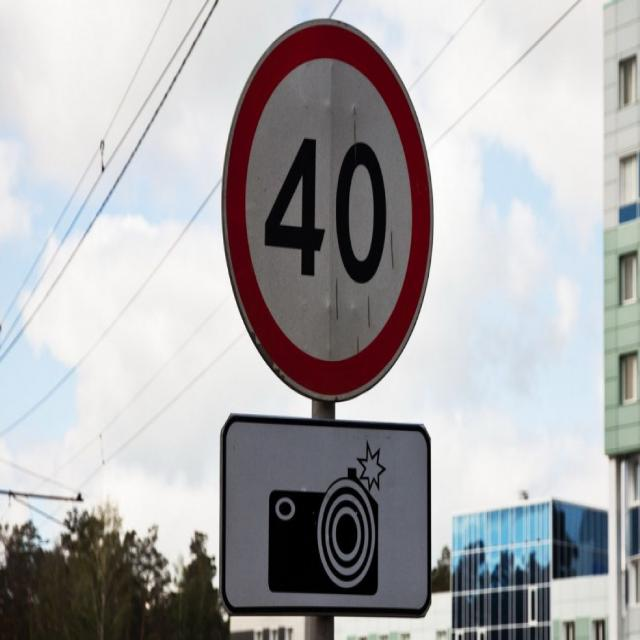speed limit 40: (220, 20, 434, 404)
